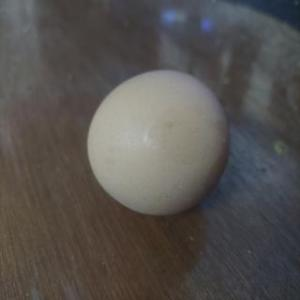egg: (86, 66, 234, 218)
